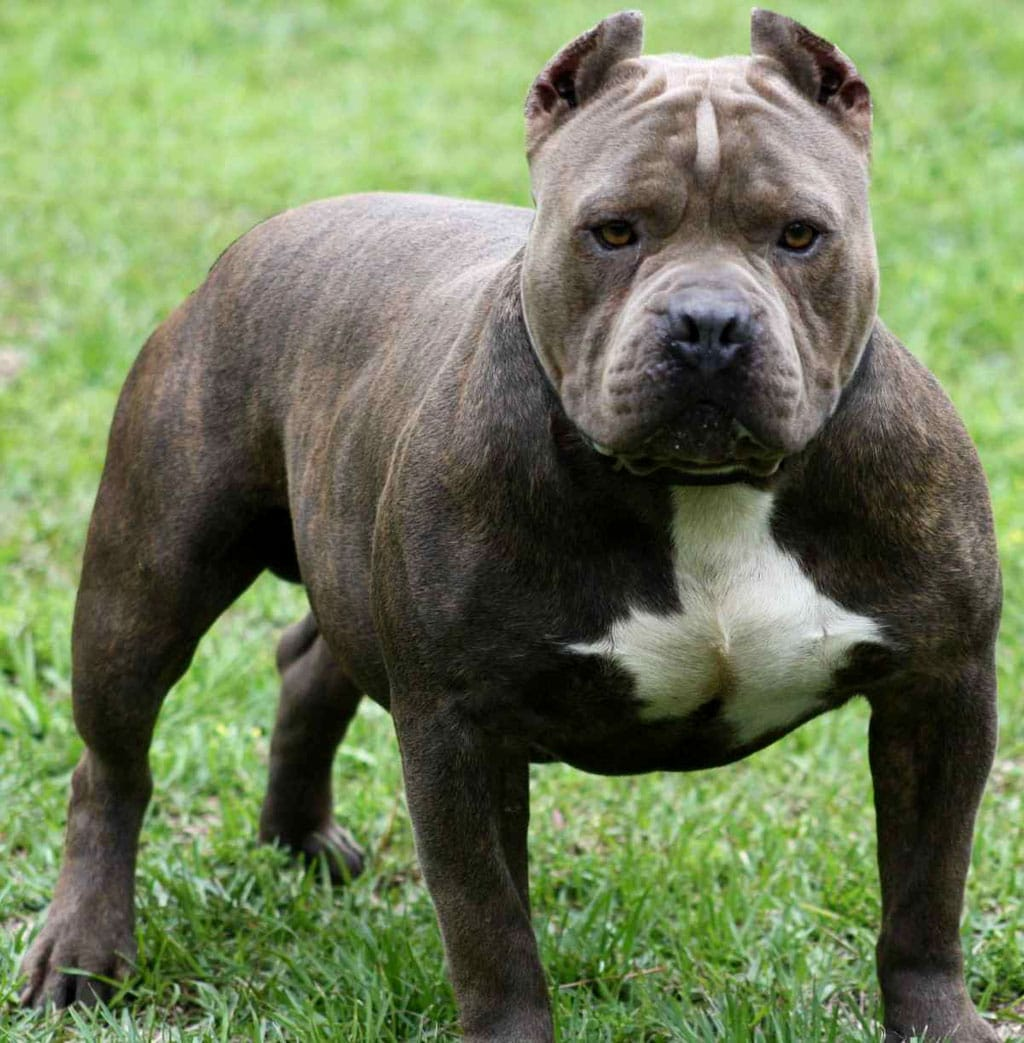am_pit_bull_terrier: (19, 7, 1005, 1042)
